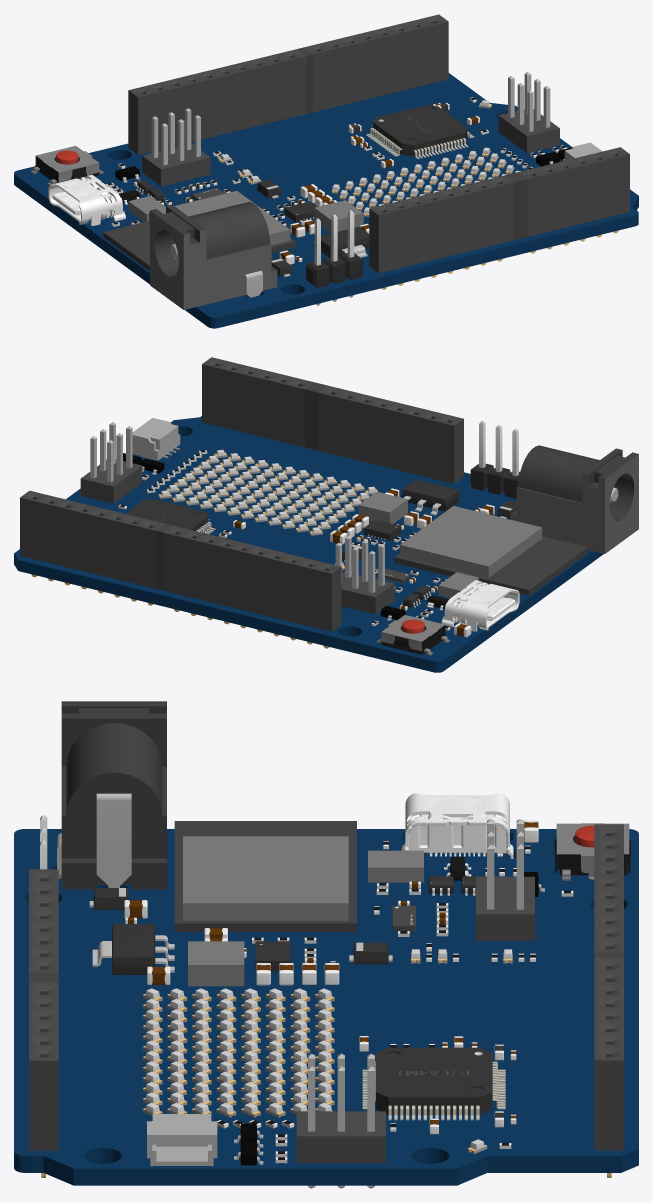
Rendered from arduino_r4.glb.
3 renders of one model, top to bottom at view 1: azimuth 30°, elevation 25°; view 2: azimuth 150°, elevation 25°; view 3: azimuth 270°, elevation 25°, orthographic. The views are drawn at different scales.
Visible parts, largest first — view 1: Open CASCADE STEP translator 7.5 4.1.1, pj-102ah, Header_Fem_1X10_digikey, Header _Fem_1X8.001, Header _Fem_1X8, Header_Fem_1X6_digikey, 2x3 Header, 2x3 Header.001, Open CASCADE STEP translator 6.8 23.1.1, CX90B-16P_3D, TETactileSwitch1571636, Extruded.001 (+10 smaller); view 2: Open CASCADE STEP translator 7.5 4.1.1, Header_Fem_1X10_digikey, pj-102ah, Header _Fem_1X8.001, Header _Fem_1X8, Header_Fem_1X6_digikey, Extruded, Extruded.001, 2x3 Header.001, 2x3 Header, CX90B-16P_3D, TETactileSwitch1571636 (+11 smaller); view 3: Open CASCADE STEP translator 7.5 4.1.1, pj-102ah, Extruded, Open CASCADE STEP translator 6.8 23.1.1, Extruded.001, 2x3 Header.001, CX90B-16P_3D, Header _Fem_1X8, Header_Fem_1X6_digikey, 2x3 Header, Header_Fem_1X10_digikey, SM04B-SRSS-TB_RGB12040119 (+8 smaller).
Part boxes in pixels (x1=…): Open CASCADE STEP translator 7.5 4.1.1: x1=14, y1=73, x2=638, y2=328; pj-102ah: x1=150, y1=202, x2=277, y2=309; Header_Fem_1X10_digikey: x1=128, y1=49, x2=306, y2=154; Header _Fem_1X8.001: x1=369, y1=175, x2=514, y2=289; Header _Fem_1X8: x1=303, y1=14, x2=448, y2=112; Header_Fem_1X6_digikey: x1=518, y1=147, x2=629, y2=253; 2x3 Header: x1=142, y1=108, x2=210, y2=186; 2x3 Header.001: x1=498, y1=72, x2=559, y2=153; Open CASCADE STEP translator 6.8 23.1.1: x1=373, y1=105, x2=467, y2=156; CX90B-16P_3D: x1=48, y1=174, x2=125, y2=225; TETactileSwitch1571636: x1=31, y1=145, x2=103, y2=185; Extruded.001: x1=103, y1=221, x2=295, y2=271; Open CASCADE STEP translator 7.5 4.1.1: x1=14, y1=416, x2=603, y2=672; Header_Fem_1X10_digikey: x1=162, y1=525, x2=341, y2=648; pj-102ah: x1=511, y1=445, x2=638, y2=553; Header _Fem_1X8.001: x1=318, y1=385, x2=463, y2=483; Header _Fem_1X8: x1=20, y1=490, x2=165, y2=605; Header_Fem_1X6_digikey: x1=202, y1=357, x2=313, y2=447; Extruded: x1=400, y1=506, x2=542, y2=577; Extruded.001: x1=394, y1=536, x2=587, y2=595; 2x3 Header.001: x1=80, y1=422, x2=142, y2=503; 2x3 Header: x1=335, y1=535, x2=394, y2=614; CX90B-16P_3D: x1=441, y1=580, x2=519, y2=631; TETactileSwitch1571636: x1=376, y1=615, x2=449, y2=655; Open CASCADE STEP translator 7.5 4.1.1: x1=14, y1=829, x2=638, y2=1185; pj-102ah: x1=57, y1=701, x2=166, y2=889; Extruded: x1=183, y1=836, x2=348, y2=920; Open CASCADE STEP translator 6.8 23.1.1: x1=375, y1=1047, x2=492, y2=1114; Extruded.001: x1=174, y1=821, x2=356, y2=931; 2x3 Header.001: x1=296, y1=1053, x2=385, y2=1188; CX90B-16P_3D: x1=401, y1=793, x2=513, y2=858; Header _Fem_1X8: x1=594, y1=957, x2=623, y2=1177; Header_Fem_1X6_digikey: x1=29, y1=982, x2=58, y2=1177; 2x3 Header: x1=476, y1=819, x2=534, y2=940; Header_Fem_1X10_digikey: x1=594, y1=824, x2=623, y2=952; SM04B-SRSS-TB_RGB12040119: x1=147, y1=1114, x2=217, y2=1166.
Size of the model in its own units: 0.0705 by 0.0145 by 0.0533.
